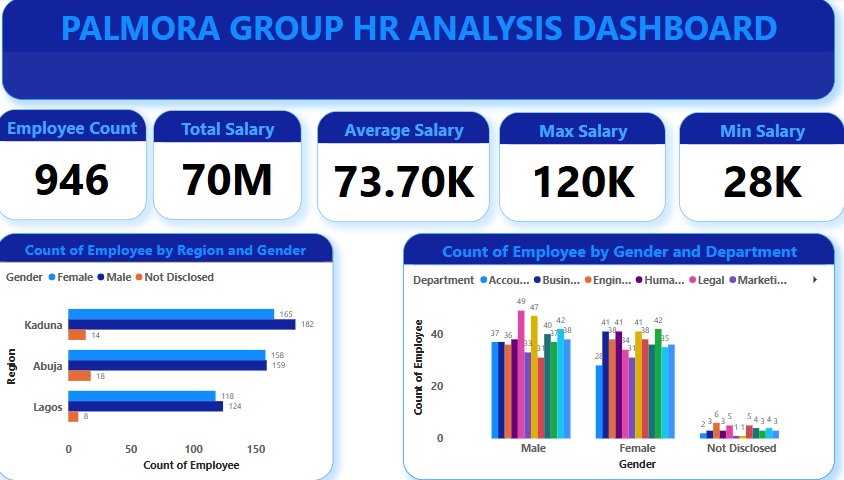

The page's visual inventory and layout, read from the dashboard file:
{"tool":"powerbi","page":{"name":"Page 1","canvas":[1280,720],"ordinal":0},"visuals":[{"type":"card","title":"Employee Count","fields":{"Values":["CountNonNull(Victoria DSA Project Analysis Case #.Employee)"]},"box":[12.5,166.3,225.3,166.3],"z":0},{"type":"clusteredColumnChart","fields":{"Series":["Victoria DSA Project Analysis Case #.Department"],"Y":["CountNonNull(Victoria DSA Project Analysis Case #.Employee)"],"Category":["Victoria DSA Project Analysis Case #.Gender"]},"box":[619.9,351,645.3,369],"z":1000},{"type":"clusteredBarChart","fields":{"Series":["Victoria DSA Project Analysis Case #.Gender"],"Category":["Victoria DSA Project Analysis Case #.Region"],"Y":["CountNonNull(Victoria DSA Project Analysis Case #.Employee)"]},"box":[12.5,350.4,504.1,370.1],"z":3000},{"type":"card","title":"Total Salary","fields":{"Values":["Sum(Victoria DSA Project Analysis Case #.Salary)"]},"box":[246.7,168,221.7,164.5],"z":4000},{"type":"card","title":"Average Salary","fields":{"Values":["Avg(Victoria DSA Project Analysis Case #.Salary)"]},"box":[491.5,168.8,258.4,165.8],"z":5000},{"type":"card","title":"Max Salary","fields":{"Values":["Max(Victoria DSA Project Analysis Case #.Salary)"]},"box":[763.3,170.3,249.5,164.3],"z":6000},{"type":"card","title":"Min Salary","fields":{"Values":["Min(Victoria DSA Project Analysis Case #.Salary)"]},"box":[1032.2,170.3,248,164.3],"z":7000},{"type":"textbox","title":"PALMORA  GROUP HR ANALYSIS DASHBOARD","box":[21.5,0,1244.2,152],"z":8000}]}

Visuals, with their boxes in screenshot pixels (x1, y1, x2, y2), scaled from the page's 1280x720 canvas onto the 844x480 screenshot:
"Employee Count" card: box(8, 111, 157, 222)
clusteredColumnChart - Victoria DSA Project Analysis Case #.Department x CountNonNull(Victoria DSA Project Analysis Case #.Employee): box(409, 234, 834, 479)
clusteredBarChart - Victoria DSA Project Analysis Case #.Gender x Victoria DSA Project Analysis Case #.Region: box(8, 234, 341, 479)
"Total Salary" card: box(163, 112, 309, 222)
"Average Salary" card: box(324, 113, 494, 223)
"Max Salary" card: box(503, 114, 668, 223)
"Min Salary" card: box(681, 114, 843, 223)
"PALMORA  GROUP HR ANALYSIS DASHBOARD" textbox: box(14, 0, 835, 101)
